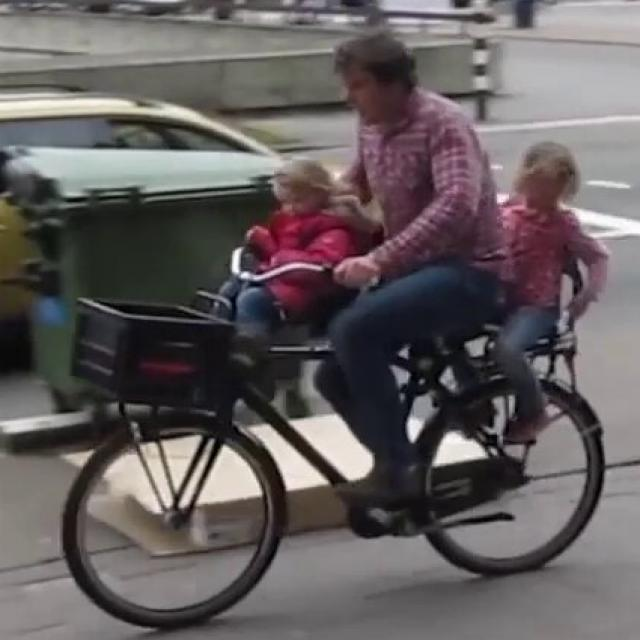car: (82, 218, 626, 636)
